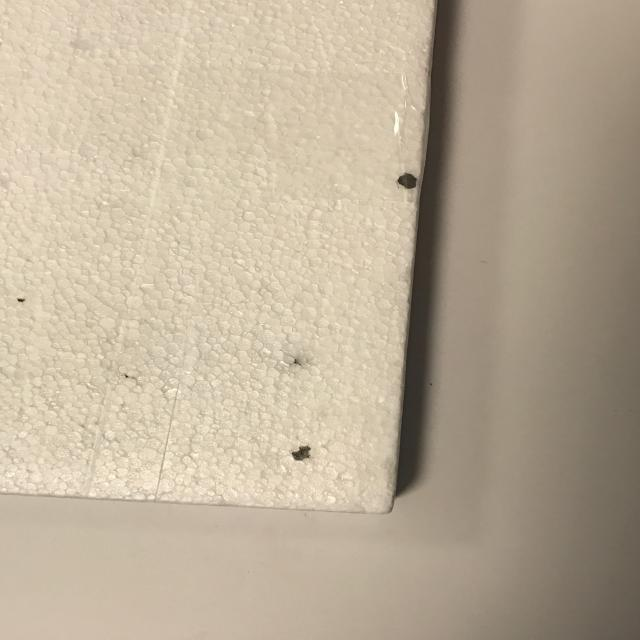trash: (0, 0, 440, 515)
